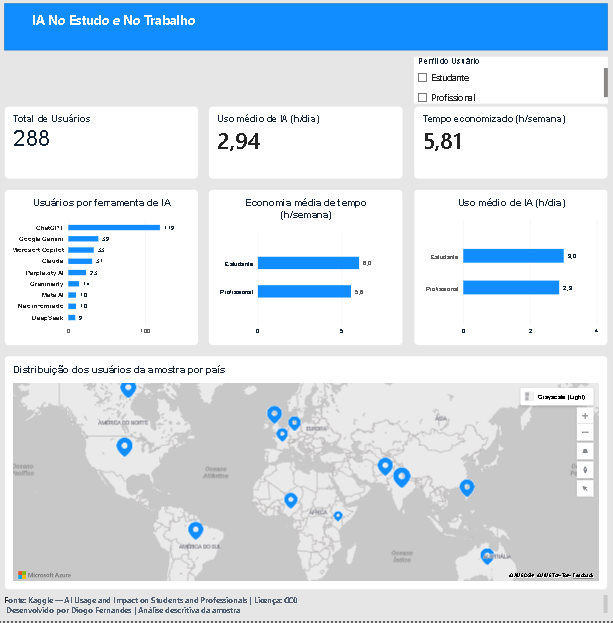

What the dashboard file says about the page in this screenshot:
{"tool":"powerbi","page":{"name":"Visão geral","canvas":[1200,1200],"ordinal":0},"visuals":[{"type":"cardVisual","fields":{"Data":["Base_Tratada.Total de Usuários"]},"box":[20,210,373,140],"z":0},{"type":"cardVisual","fields":{"Data":["Base_Tratada.Uso Médio Diário de IA"]},"box":[413,210,374,140],"z":1000},{"type":"cardVisual","fields":{"Data":["Base_Tratada.Tempo Médio Economizado por Semana"]},"box":[807,210,373,140],"z":2000},{"type":"clusteredBarChart","title":"Usuários por ferramenta de IA","fields":{"Category":["DimFerramenta.Ferramenta de IA"],"Y":["Base_Tratada.Total de Usuários"]},"box":[20,370,373,300],"z":3000},{"type":"clusteredBarChart","title":"Economia média de tempo (h/semana)","fields":{"Category":["DimPerfil.Perfil do Usuário"],"Y":["Base_Tratada.Tempo Médio Economizado por Semana"]},"box":[413,370,374,300],"z":4000},{"type":"clusteredBarChart","fields":{"Category":["DimPerfil.Perfil do Usuário"],"Y":["Base_Tratada.Uso Médio Diário de IA"]},"box":[1250.5,481.7,627.6,405.3],"z":5000},{"type":"slicer","fields":{"Values":["DimPerfil.Perfil do Usuário"]},"box":[807.8,115,373,90],"z":6000},{"type":"azureMap","title":"Distribuição dos usuários da amostra por país","fields":{"Category":["DimPais.País"],"Size":["Base_Tratada.Total de Usuários"]},"box":[20,690,1160,450],"z":7000},{"type":"shape","box":[19.6,13.7,1160,90],"z":8000},{"type":"textbox","box":[62.7,27.5,335.3,56.9],"z":9000},{"type":"clusteredBarChart","title":"Uso médio de IA (h/dia)","fields":{"Category":["DimPerfil.Perfil do Usuário"],"Y":["Base_Tratada.Uso Médio Diário de IA"]},"box":[807,370,373,300],"z":10000},{"type":"textbox","box":[20,1150,1160,45],"z":10001}]}

Visuals, with their boxes in screenshot pixels (x1, y1, x2, y2), scaled from the page's 1200x1200 canvas onto the 613x623 screenshot:
cardVisual - Base_Tratada.Total de Usuários: x1=10, y1=109, x2=201, y2=182
cardVisual - Base_Tratada.Uso Médio Diário de IA: x1=211, y1=109, x2=402, y2=182
cardVisual - Base_Tratada.Tempo Médio Economizado por Semana: x1=412, y1=109, x2=603, y2=182
"Usuários por ferramenta de IA" clusteredBarChart: x1=10, y1=192, x2=201, y2=348
"Economia média de tempo (h/semana)" clusteredBarChart: x1=211, y1=192, x2=402, y2=348
slicer - DimPerfil.Perfil do Usuário: x1=413, y1=60, x2=603, y2=106
"Distribuição dos usuários da amostra por país" azureMap: x1=10, y1=358, x2=603, y2=592
shape: x1=10, y1=7, x2=603, y2=54
textbox: x1=32, y1=14, x2=203, y2=44
"Uso médio de IA (h/dia)" clusteredBarChart: x1=412, y1=192, x2=603, y2=348
textbox: x1=10, y1=597, x2=603, y2=620
